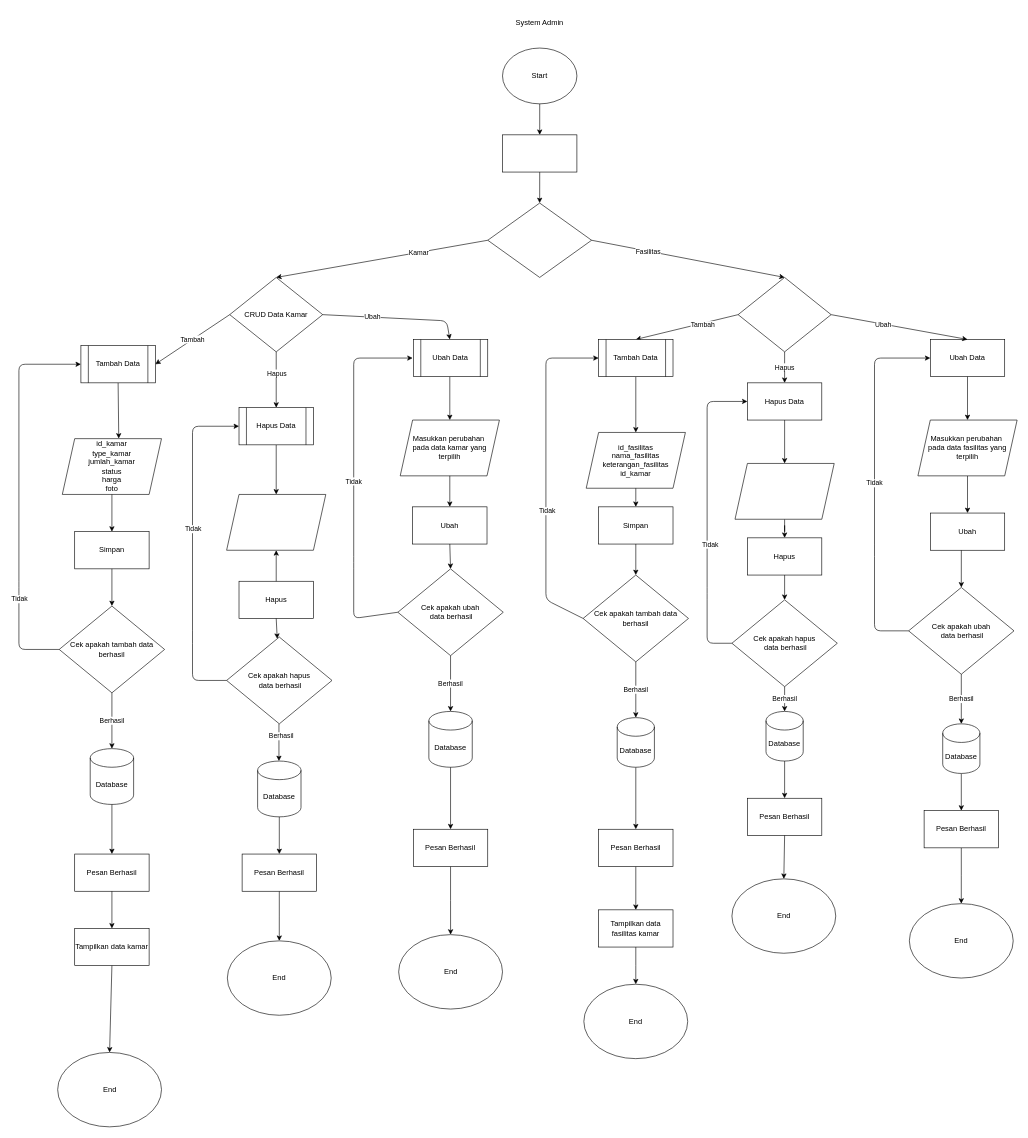
This 1028x1138 diagram has some shape labels left out. The shapes that lost their labels are listed below. From the top down, each one's box as (x1, y1, x2, y2) in pixels, then its label:
(502, 134, 577, 172): Halaman Admin
(487, 202, 592, 277): CRUD
(737, 277, 831, 352): CRUD Data Fasilitas Kamar
(734, 463, 834, 519): Pilih data fasilitas
(226, 494, 326, 550): Pilih data kamar
